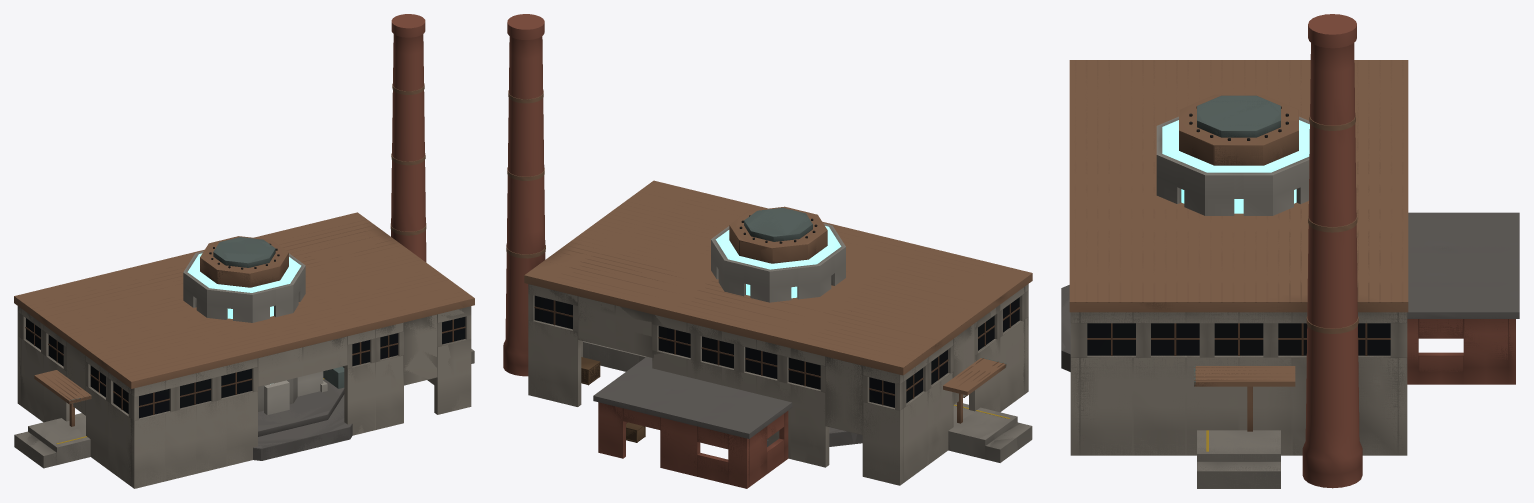
File: ground-zero.glb
3 views of the same model, side by side, from view 1: azimuth 30°, elevation 25°; view 2: azimuth 150°, elevation 25°; view 3: azimuth 270°, elevation 25° (orthographic). The views are drawn at different scales.
Visible parts, largest first — view 1: gz-factory, gz-factory-lod, gz-reactor, gz-reactor-lod, gz-station, gz-station-lod; view 2: gz-factory, gz-factory-lod, gz-station, gz-station-lod, gz-reactor, gz-reactor-lod; view 3: gz-factory, gz-factory-lod, gz-station, gz-station-lod, gz-reactor, gz-reactor-lod.
Part boxes in pixels (x1,y1,x2,y2): gz-factory: [16, 14, 474, 488]; gz-factory-lod: [14, 14, 474, 488]; gz-reactor: [183, 236, 352, 460]; gz-reactor-lod: [200, 236, 352, 460]; gz-station: [14, 349, 474, 467]; gz-station-lod: [14, 349, 474, 468]; gz-factory: [503, 14, 1032, 485]; gz-factory-lod: [507, 14, 1032, 485]; gz-station: [583, 341, 1031, 488]; gz-station-lod: [583, 342, 1032, 488]; gz-reactor: [711, 207, 862, 446]; gz-reactor-lod: [729, 206, 862, 446]; gz-factory: [1069, 14, 1408, 488]; gz-factory-lod: [1069, 15, 1408, 455]; gz-station: [1194, 213, 1518, 488]; gz-station-lod: [1194, 212, 1519, 488]; gz-reactor: [1062, 96, 1309, 370]; gz-reactor-lod: [1061, 94, 1298, 371].
Bounding box in the file's own units: 38.4 × 26.6 × 24.5.
